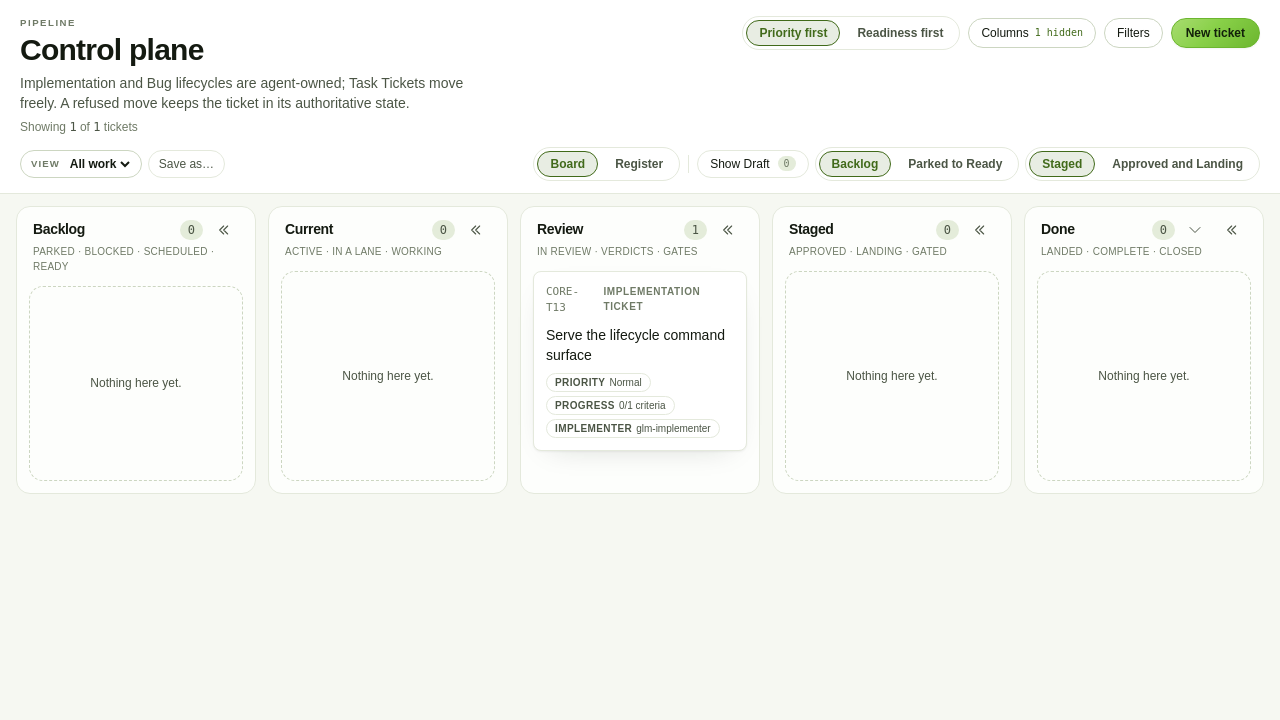
Test: the drawer footer actions › a landed approval refreshes the review history and the Ticket audit
The width and height of the screenshot is (1280, 720).
Click the button with test id "open-ticket-8": (640, 345) [546,325,734,365]
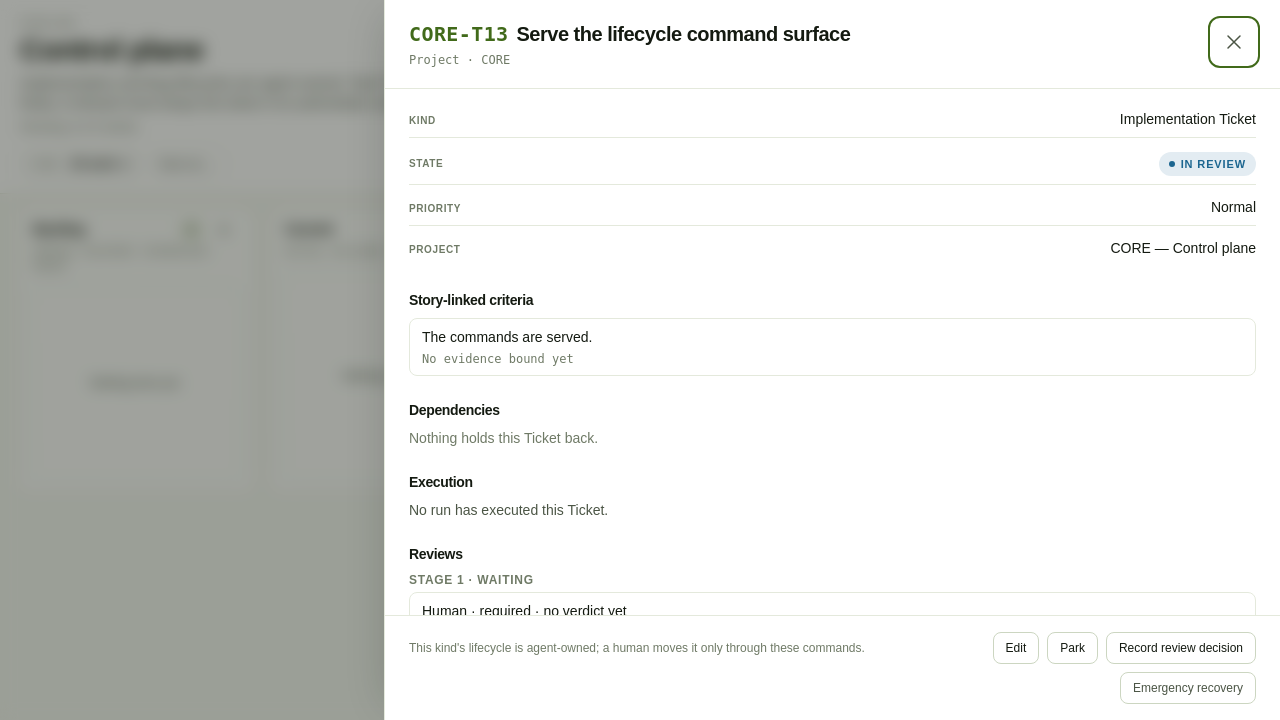
Click the button with test id "drawer-review-decision": (1181, 648) [1106,632,1256,664]
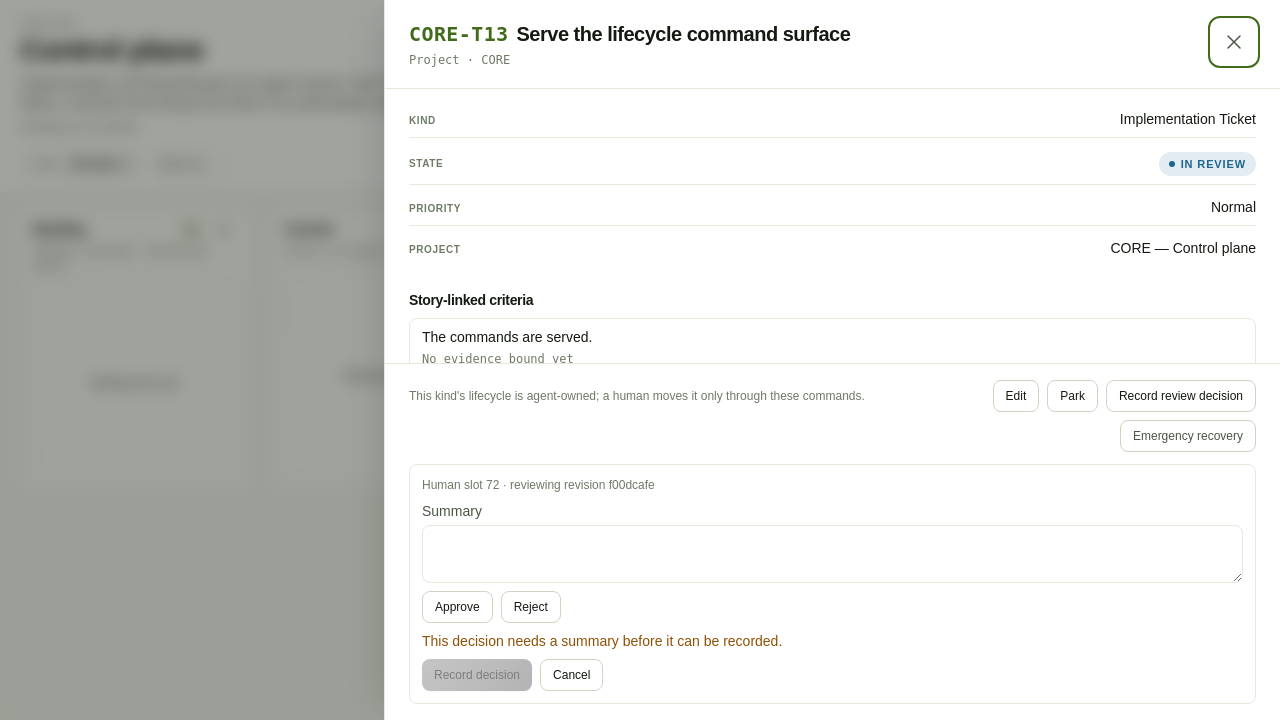
In the text box labelled "Summary": (832, 554) [422,525,1243,583], type "The slice holds; the gates are green."
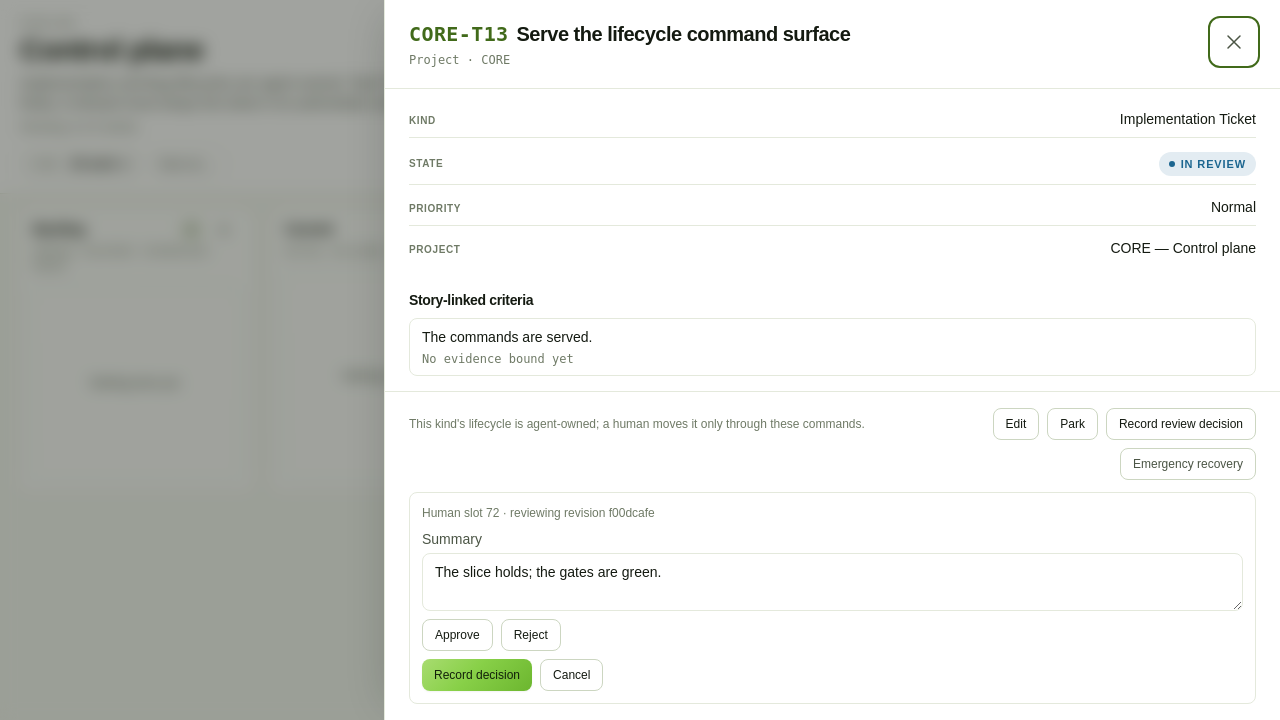
Click the button with test id "review-decision-submit": (477, 675) [422,659,532,691]
(page scrolled)
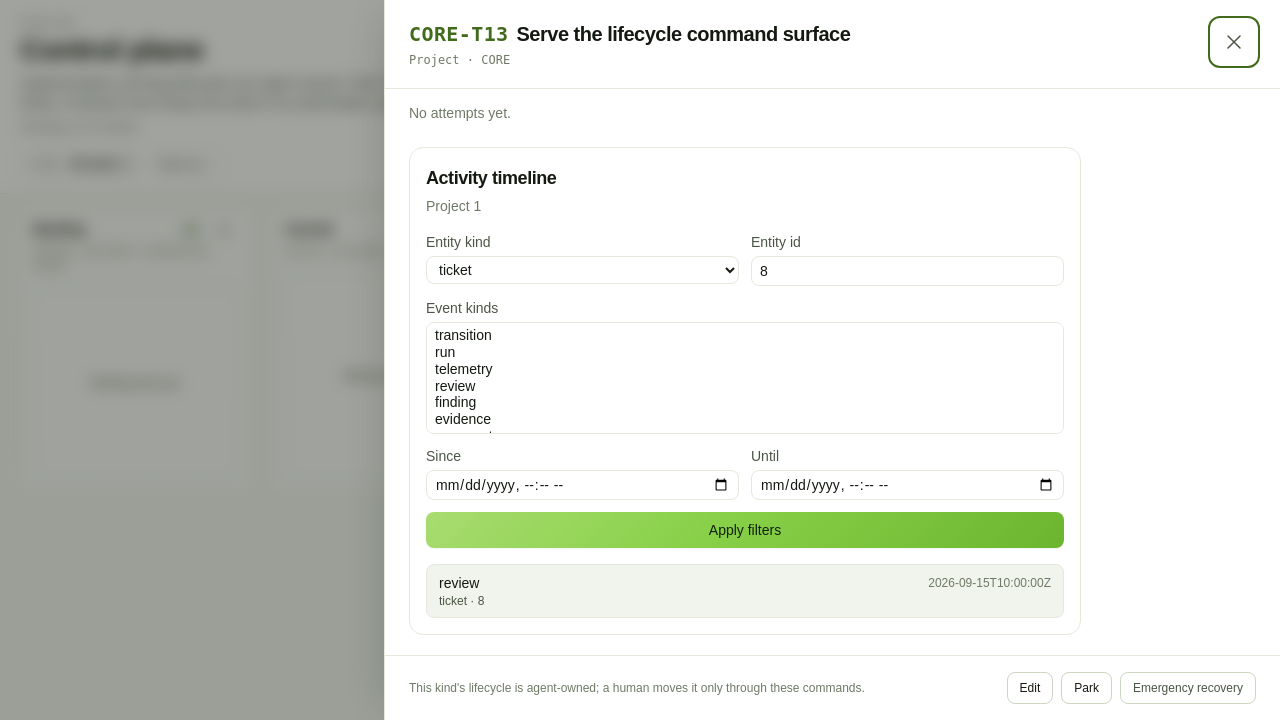
Result: the list item with test id "timeline-event-" is shown at [426,564,1064,618]
